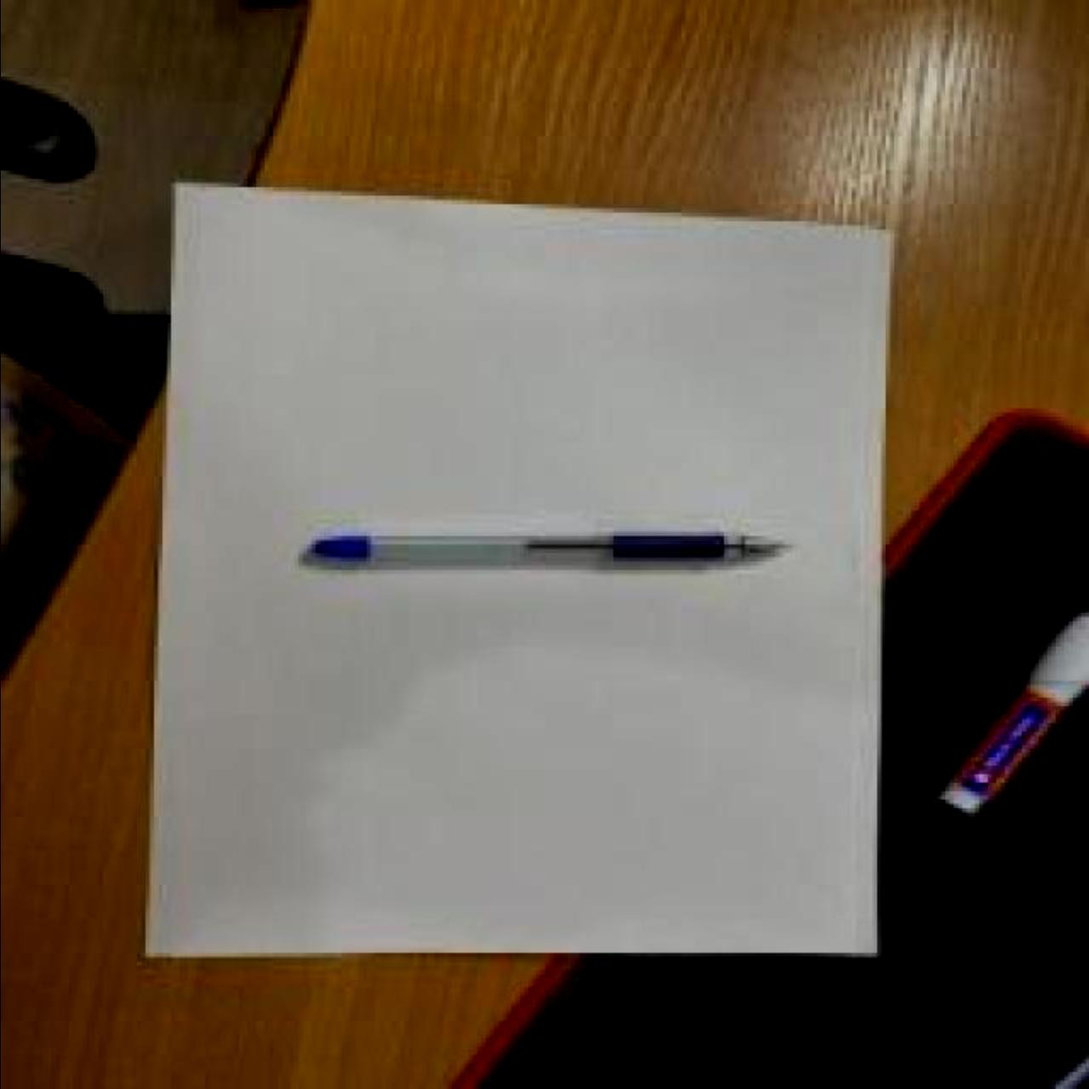pen: (306, 536, 800, 570)
